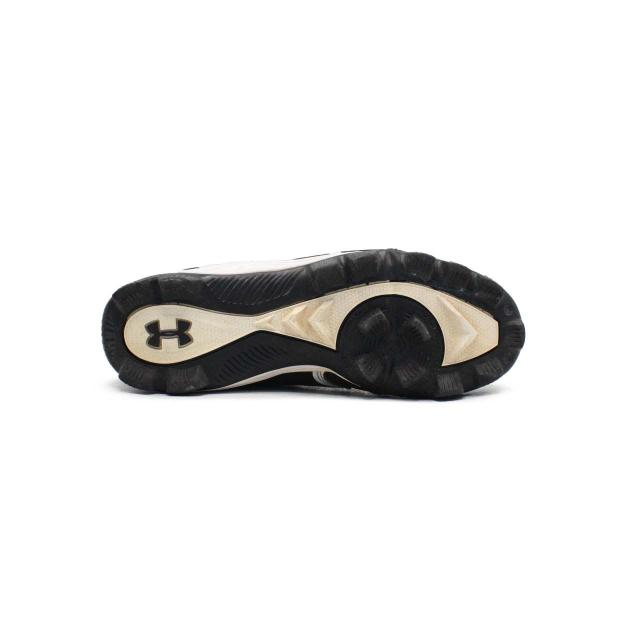outersole: (98, 248, 525, 403)
